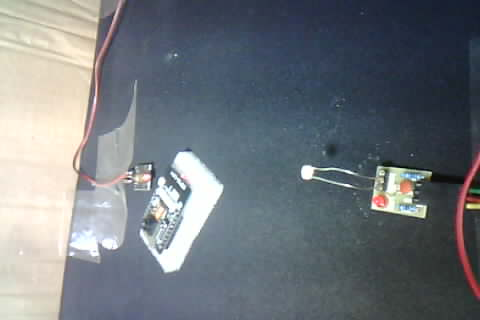esp32: (136, 149, 206, 264)
